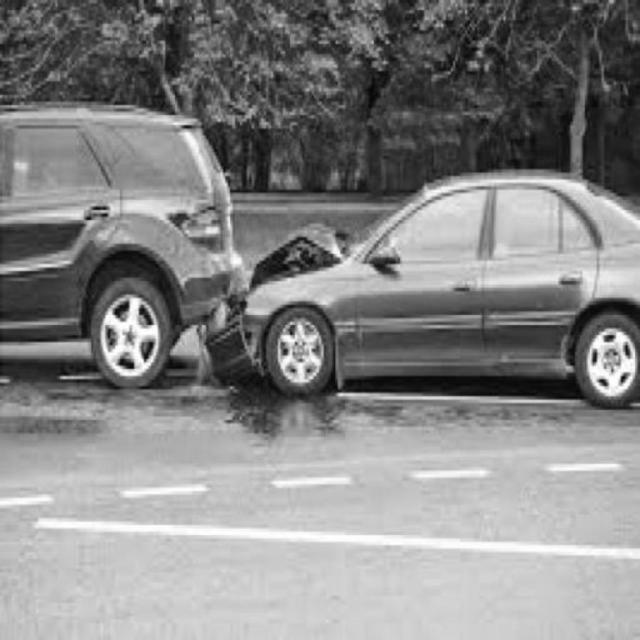accident: (3, 107, 640, 431)
